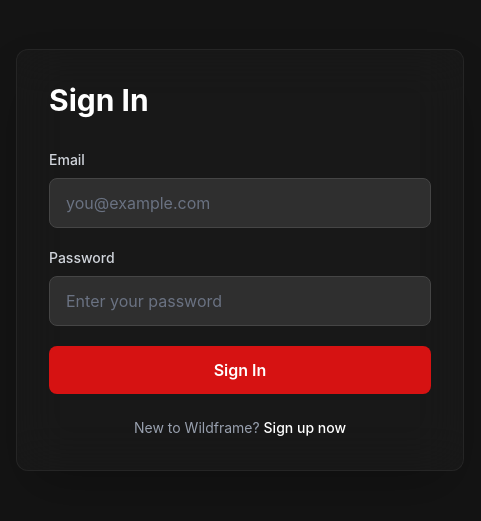
Test: LoginForm › shows an error message when login fails
In the field with placeholder "you@example.com": (240, 203) [49, 178, 431, 228], type "a@b.com"
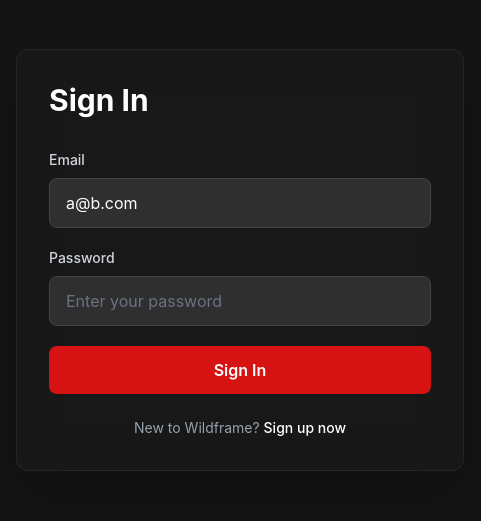
In the password field with placeholder "Enter your password": (240, 301) [49, 276, 431, 326], type "wrong"
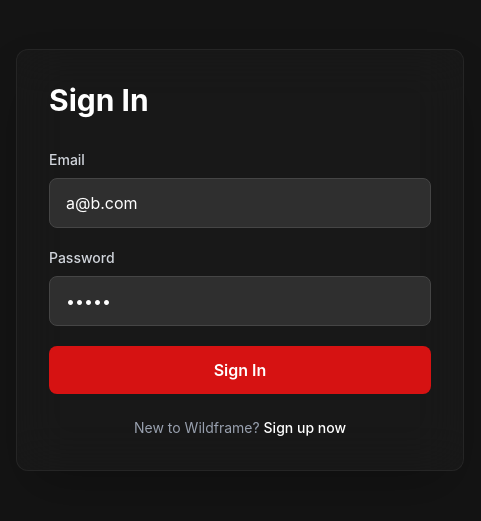
Submit the form "Email Password Sign In", box [49, 150, 431, 394]
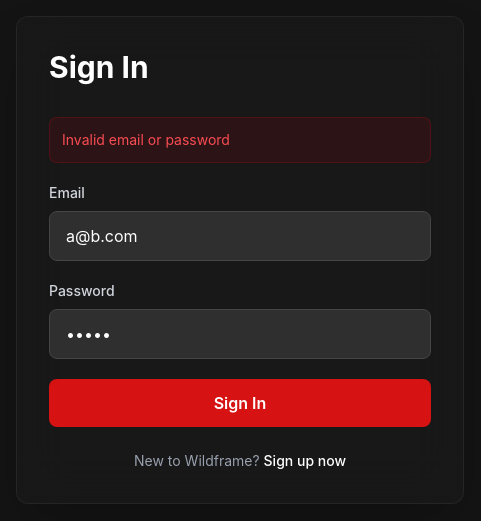
Now the text "Invalid email or password" is shown, box [49, 117, 431, 163]
